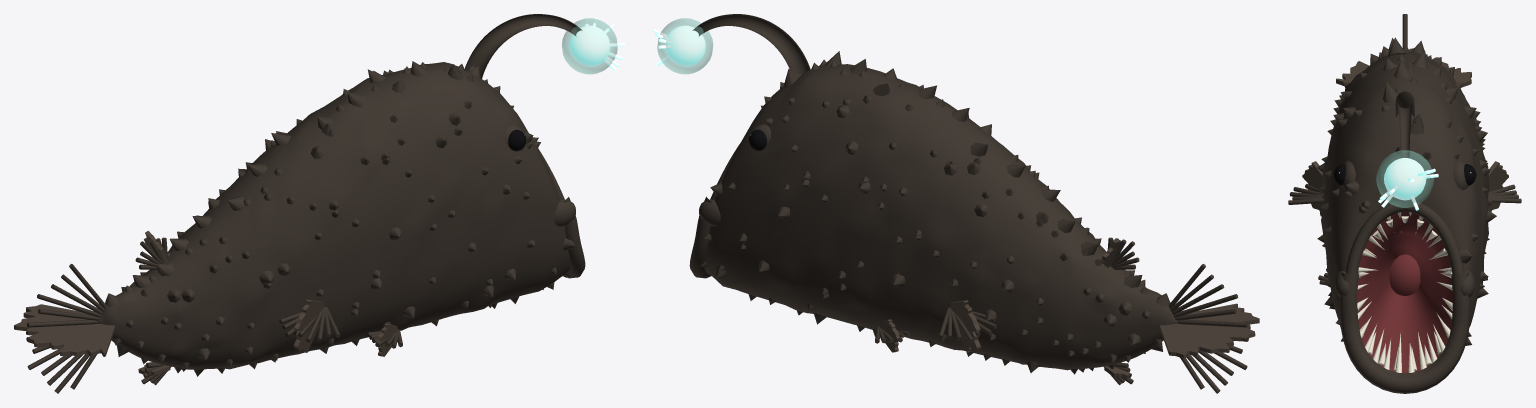
Rendered from anglerfish.glb.
3 views of the same model, side by side, from view 1: azimuth 30°, elevation 25°; view 2: azimuth 150°, elevation 25°; view 3: azimuth 270°, elevation 25° (orthographic). The views are drawn at different scales.
Visible parts, largest first — view 1: Mesh_Body, Mesh_CaudalFin_Web, Mesh_EscaBulb, Mesh_Illicium, Mesh_EscaCore, Mesh_PectoralFinR_Web, Mesh_LowerJawBone; view 2: Mesh_Body, Mesh_CaudalFin_Web, Mesh_EscaBulb, Mesh_Illicium, Mesh_EscaCore, Mesh_LowerJawBone, Mesh_PectoralFinL_Web; view 3: Mesh_Body, Mesh_MouthCavity, Mesh_LowerJawBone, Mesh_JawRim, Mesh_EscaBulb, Mesh_EscaCore, Mesh_Gullet, Mesh_Illicium, Mesh_CaudalFin_Web, Mesh_PectoralFinL_Web, Mesh_PectoralFinR_Web, Mesh_EyeRidgeL (+6 smaller).
Boxes of the visible parts, left/top/right/bottom form: Mesh_Body: left=96, top=62, right=569, bottom=369; Mesh_CaudalFin_Web: left=14, top=304, right=115, bottom=356; Mesh_EscaBulb: left=562, top=18, right=617, bottom=74; Mesh_Illicium: left=464, top=14, right=582, bottom=79; Mesh_EscaCore: left=569, top=25, right=610, bottom=66; Mesh_PectoralFinR_Web: left=293, top=299, right=324, bottom=352; Mesh_LowerJawBone: left=562, top=197, right=585, bottom=278; Mesh_Body: left=705, top=64, right=1179, bottom=370; Mesh_CaudalFin_Web: left=1160, top=303, right=1259, bottom=358; Mesh_EscaBulb: left=657, top=18, right=713, bottom=74; Mesh_Illicium: left=692, top=14, right=810, bottom=73; Mesh_EscaCore: left=665, top=25, right=705, bottom=66; Mesh_LowerJawBone: left=689, top=196, right=712, bottom=278; Mesh_PectoralFinL_Web: left=950, top=300, right=980, bottom=353; Mesh_Body: left=1321, top=51, right=1488, bottom=328; Mesh_MouthCavity: left=1357, top=212, right=1452, bottom=373; Mesh_LowerJawBone: left=1339, top=272, right=1470, bottom=393; Mesh_JawRim: left=1345, top=200, right=1464, bottom=377; Mesh_EscaBulb: left=1376, top=150, right=1433, bottom=207; Mesh_EscaCore: left=1384, top=158, right=1426, bottom=200; Mesh_Gullet: left=1389, top=254, right=1420, bottom=295; Mesh_Illicium: left=1395, top=91, right=1414, bottom=158; Mesh_CaudalFin_Web: left=1336, top=57, right=1471, bottom=87; Mesh_PectoralFinL_Web: left=1488, top=161, right=1508, bottom=211; Mesh_PectoralFinR_Web: left=1302, top=161, right=1324, bottom=216; Mesh_EyeRidgeL: left=1453, top=159, right=1468, bottom=190.
Bounding box in the file's own units: 0.3895 × 0.1755 × 0.1297.
